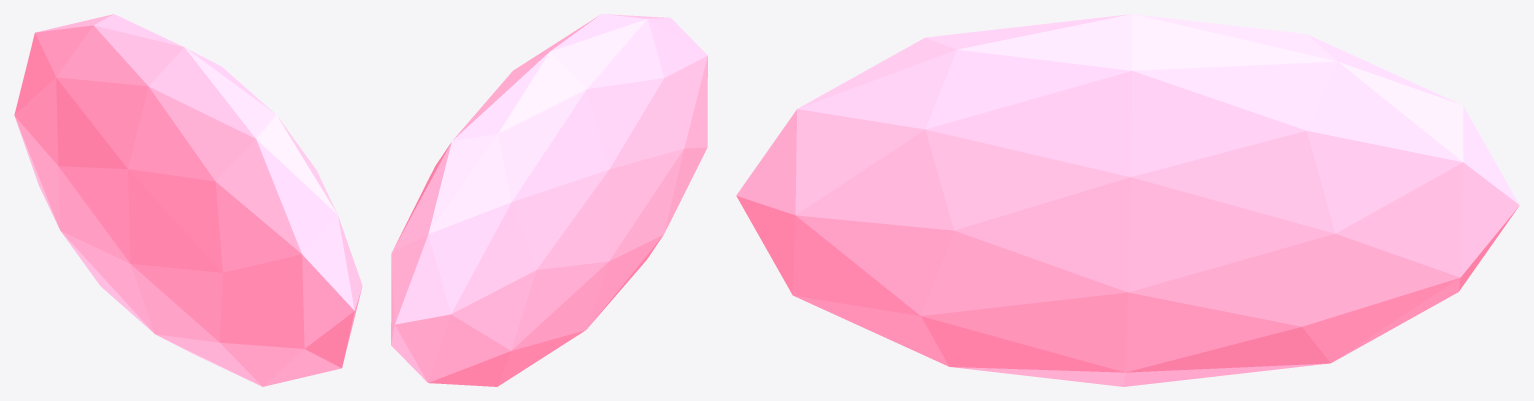
File: enemyBullet.glb
3 views of the same model, side by side, from view 1: azimuth 30°, elevation 25°; view 2: azimuth 150°, elevation 25°; view 3: azimuth 270°, elevation 25° (orthographic). The views are drawn at different scales.
Parts seen in each view (by area): view 1: Icosphere; view 2: Icosphere; view 3: Icosphere.
Boxes of the visible parts, x1,y1,x2,y2 form: Icosphere: (14, 14, 362, 386); Icosphere: (391, 14, 707, 386); Icosphere: (736, 14, 1519, 386).
Size of what is drawn, in the model's own units: 0.8318 by 2 by 3.83.
